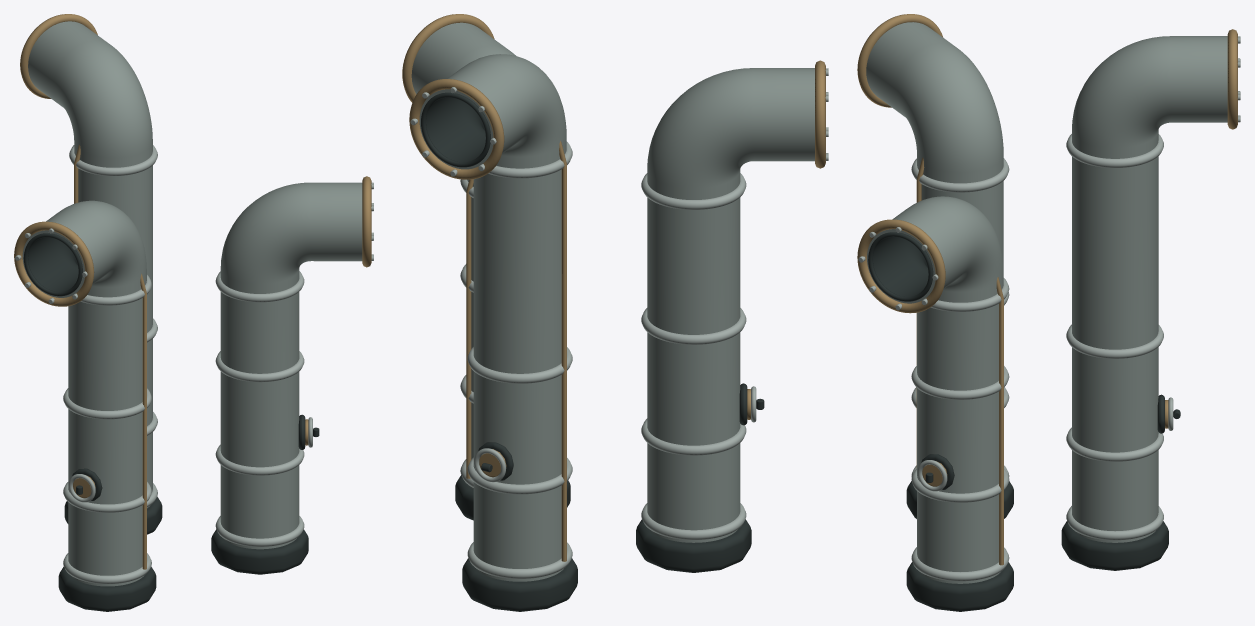
The picture shows the model from 3 angles, left to right: view 1: azimuth 30°, elevation 25°; view 2: azimuth 150°, elevation 25°; view 3: azimuth 270°, elevation 25°; orthographic projection. The views are drawn at different scales.
Visible parts, largest first — view 1: Radiation filter hollow tube 02, Radiation filter hollow tube 01, Radiation filter hollow tube 03, Filter foundation socket, Filter foundation socket.001, Intake bolted flange, Filter pressure monitoring line, Intake bolted flange.002, Filter segmented sleeve.007, Filter segmented sleeve.006, Filter segmented sleeve.004, Filter segmented sleeve.005 (+8 smaller); view 2: Radiation filter hollow tube 01, Radiation filter hollow tube 03, Radiation filter hollow tube 02, Filter foundation socket, Filter foundation socket.002, Intake bolted flange.002, Filter pressure monitoring line.002, Filter pressure monitoring line.001, Intake bolted flange.001, Filter segmented sleeve, Filter segmented sleeve.002, Filter segmented sleeve.003 (+8 smaller); view 3: Radiation filter hollow tube 03, Radiation filter hollow tube 02, Radiation filter hollow tube 01, Filter foundation socket.001, Filter foundation socket.002, Intake bolted flange.001, Intake bolted flange, Filter pressure monitoring line.001, Filter segmented sleeve.010, Filter segmented sleeve.008, Filter segmented sleeve.011, Intake bolted flange.002 (+8 smaller).
Boxes of the visible parts, bbox=[...] form: Radiation filter hollow tube 02: bbox=[220, 182, 362, 549]; Radiation filter hollow tube 01: bbox=[22, 200, 146, 586]; Radiation filter hollow tube 03: bbox=[28, 21, 152, 508]; Filter foundation socket: bbox=[58, 566, 156, 611]; Filter foundation socket.001: bbox=[211, 529, 308, 574]; Intake bolted flange: bbox=[14, 221, 94, 306]; Filter pressure monitoring line: bbox=[140, 273, 146, 569]; Intake bolted flange.002: bbox=[20, 14, 97, 98]; Filter segmented sleeve.007: bbox=[215, 271, 304, 302]; Filter segmented sleeve.006: bbox=[215, 351, 304, 382]; Filter segmented sleeve.004: bbox=[215, 516, 304, 546]; Filter segmented sleeve.005: bbox=[215, 444, 304, 475]; Radiation filter hollow tube 01: bbox=[647, 68, 814, 542]; Radiation filter hollow tube 03: bbox=[419, 54, 566, 581]; Radiation filter hollow tube 02: bbox=[411, 22, 515, 489]; Filter foundation socket: bbox=[636, 519, 751, 572]; Filter foundation socket.002: bbox=[462, 558, 577, 611]; Intake bolted flange.002: bbox=[409, 79, 504, 179]; Filter pressure monitoring line.002: bbox=[559, 140, 566, 561]; Filter pressure monitoring line.001: bbox=[466, 179, 473, 478]; Intake bolted flange.001: bbox=[402, 14, 494, 102]; Filter segmented sleeve: bbox=[641, 503, 746, 539]; Filter segmented sleeve.002: bbox=[641, 308, 746, 344]; Filter segmented sleeve.003: bbox=[641, 173, 746, 209]; Radiation filter hollow tube 03: bbox=[1072, 36, 1227, 542]; Radiation filter hollow tube 02: bbox=[867, 196, 1003, 583]; Radiation filter hollow tube 01: bbox=[866, 22, 1003, 266]; Filter foundation socket.001: bbox=[906, 562, 1013, 611]; Filter foundation socket.002: bbox=[1061, 521, 1168, 570]; Intake bolted flange.001: bbox=[857, 219, 945, 313]; Intake bolted flange: bbox=[857, 14, 943, 107]; Filter pressure monitoring line.001: bbox=[996, 277, 1003, 565]; Filter segmented sleeve.010: bbox=[1066, 324, 1163, 358]; Filter segmented sleeve.008: bbox=[1066, 506, 1163, 540]; Filter segmented sleeve.011: bbox=[1066, 134, 1163, 167]; Intake bolted flange.002: bbox=[1227, 29, 1237, 129].
Bounding box in the file's own units: 2.21 × 2.76 × 1.86.
